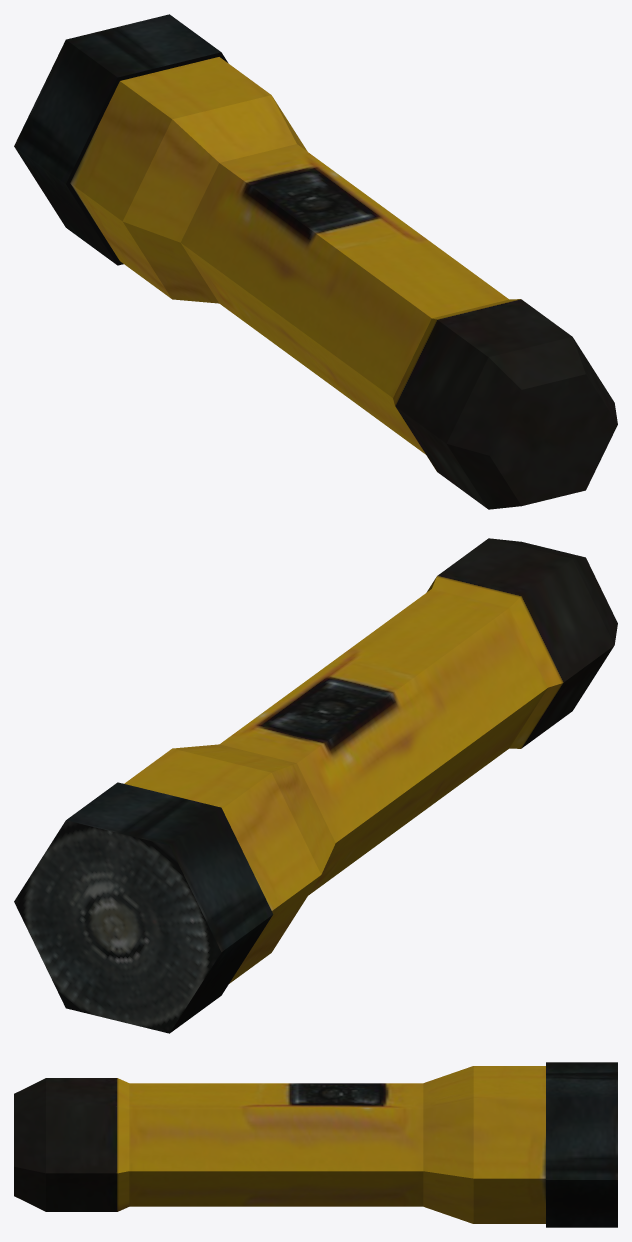
The model's file is exploration_flashlight.glb.
The picture shows the model from 3 angles, top to bottom: view 1: azimuth 30°, elevation 25°; view 2: azimuth 150°, elevation 25°; view 3: azimuth 270°, elevation 25°; orthographic projection. The views are drawn at different scales.
Parts seen in each view (by area): view 1: world; view 2: world; view 3: world.
Part boxes in pixels (x1,y1,x2,y2): world: (14, 14, 617, 509); world: (14, 538, 617, 1033); world: (14, 1062, 617, 1227).
Bounding box in the file's own units: 0.0797 × 0.069 × 0.29.
Materials: 1 (1 with a texture image).
